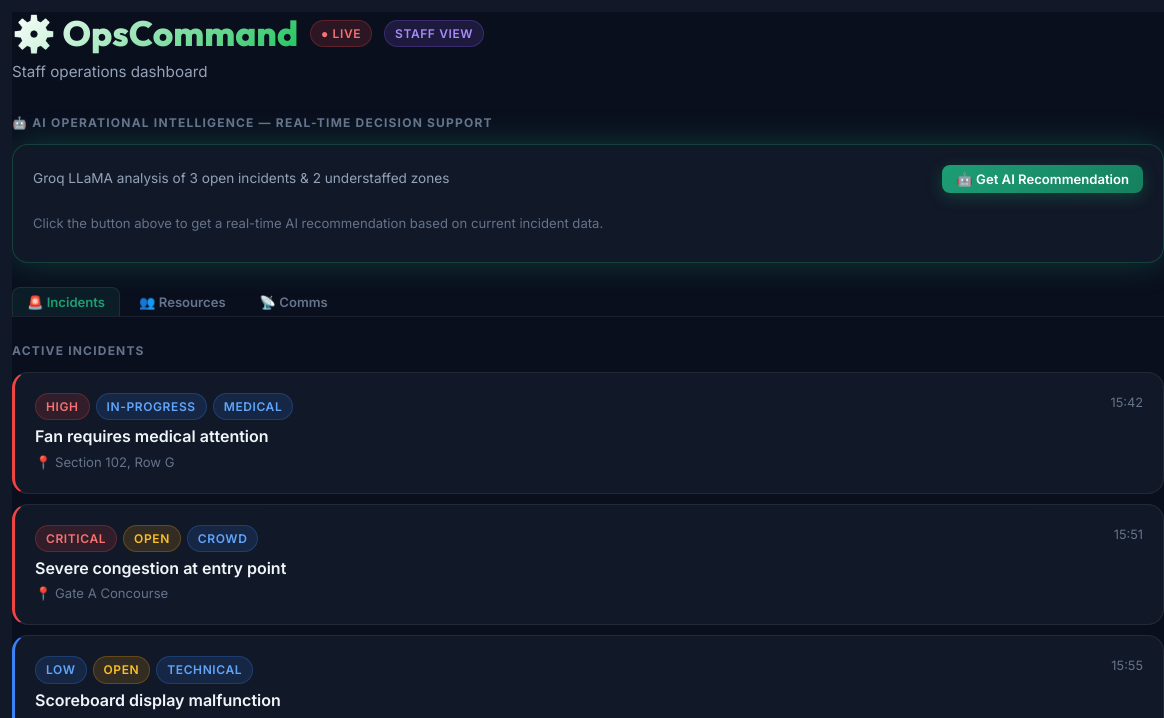
OpsCommand › switches to comms tab on click
The image size is (1164, 718).
Step 1. Click the button with aria-label "comms tab" → {"x": 294, "y": 301}, box [245, 287, 343, 316]
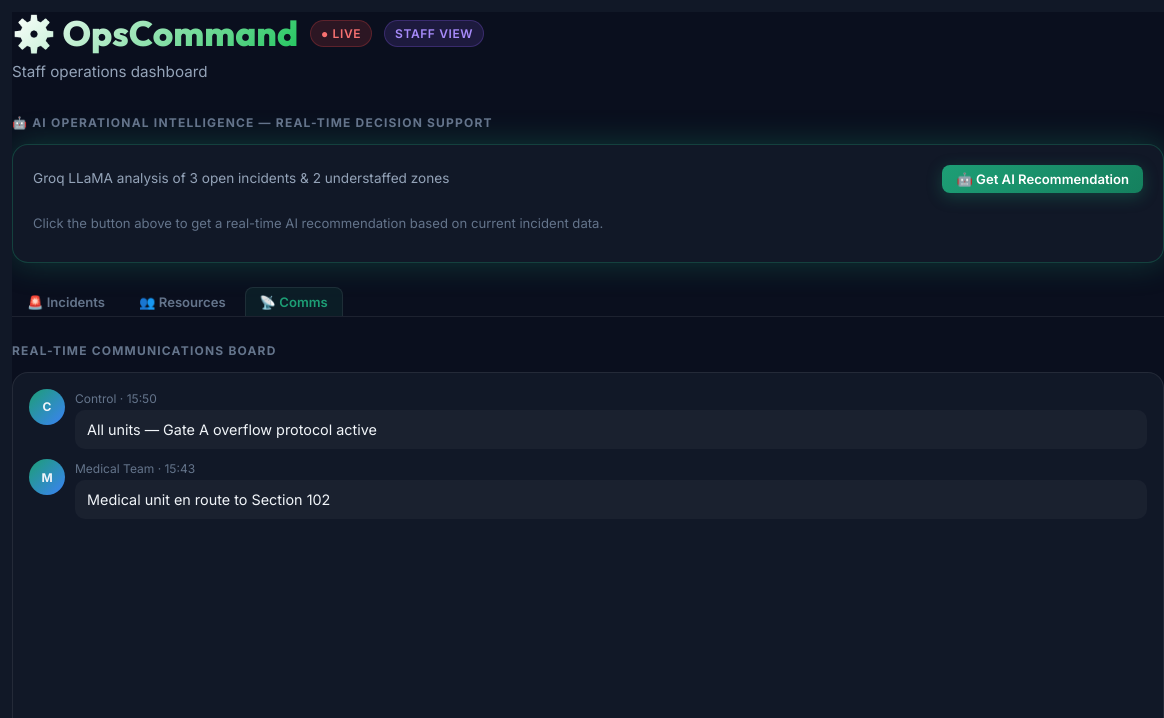
Expected: the text "Real-time Communications Board" is shown, [12, 343, 277, 358]
